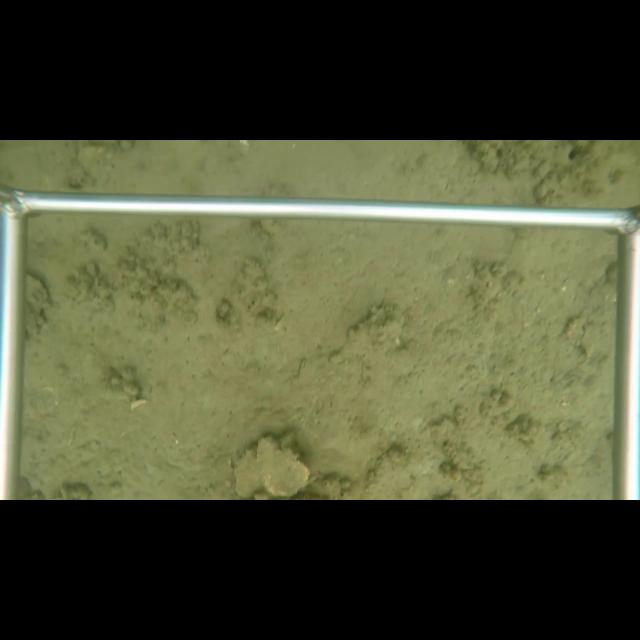Oyster-Closed: (257, 435, 311, 499), (232, 445, 263, 496)
